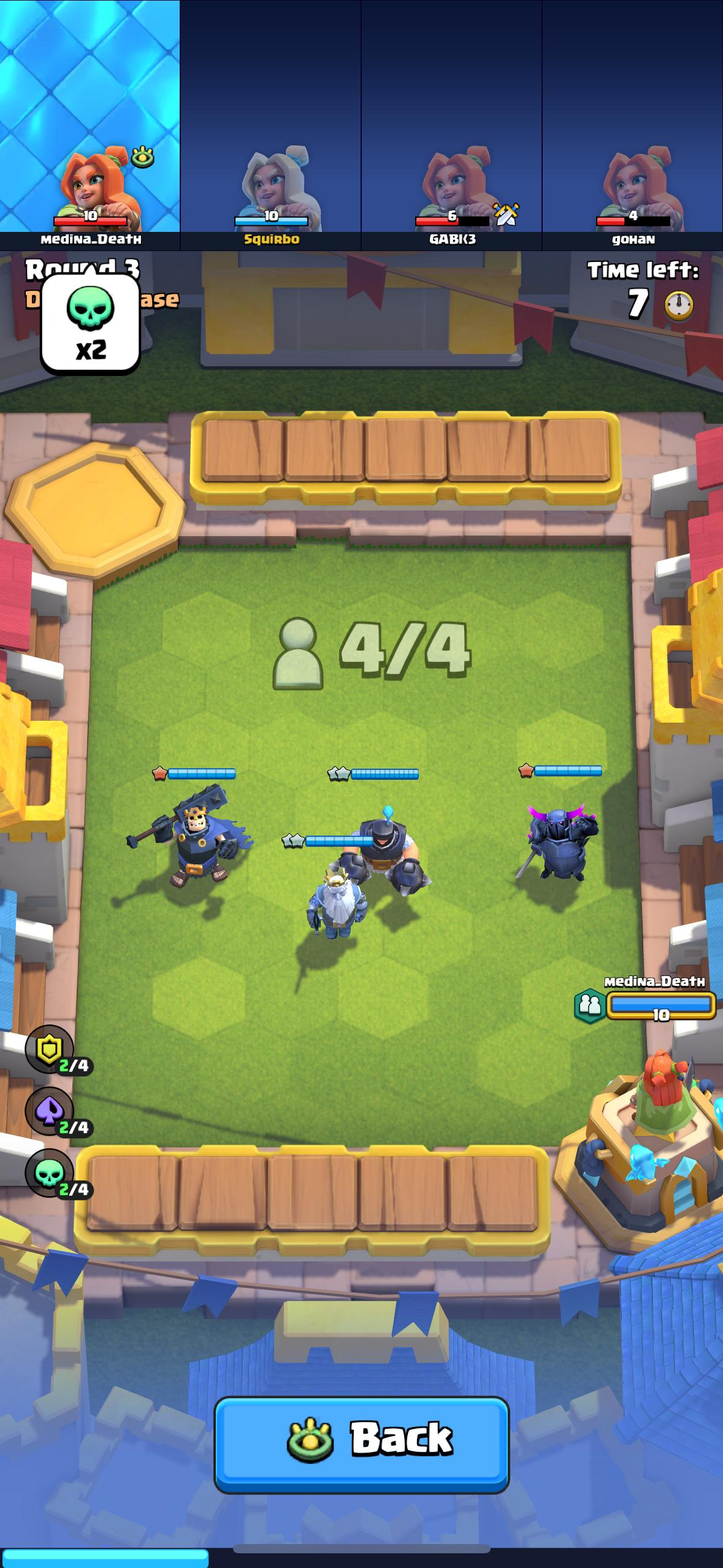ghost: (301, 860, 365, 940)
king: (148, 782, 248, 895)
mega: (347, 806, 431, 900)
pekka: (520, 793, 599, 886)
